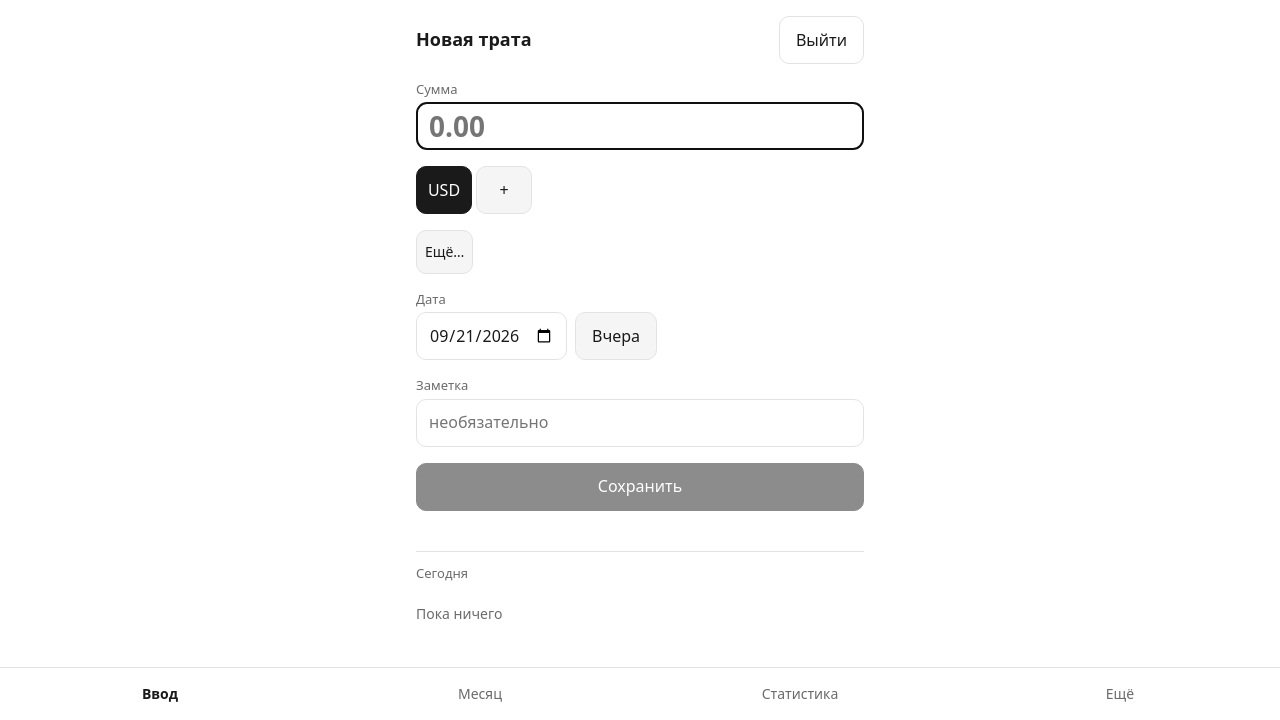
Scenario: EntryScreen › сохраняет запись и очищает сумму, оставляя категорию
Type "350" into the field labelled "Сумма" at (640, 126), box [416,102,864,150]
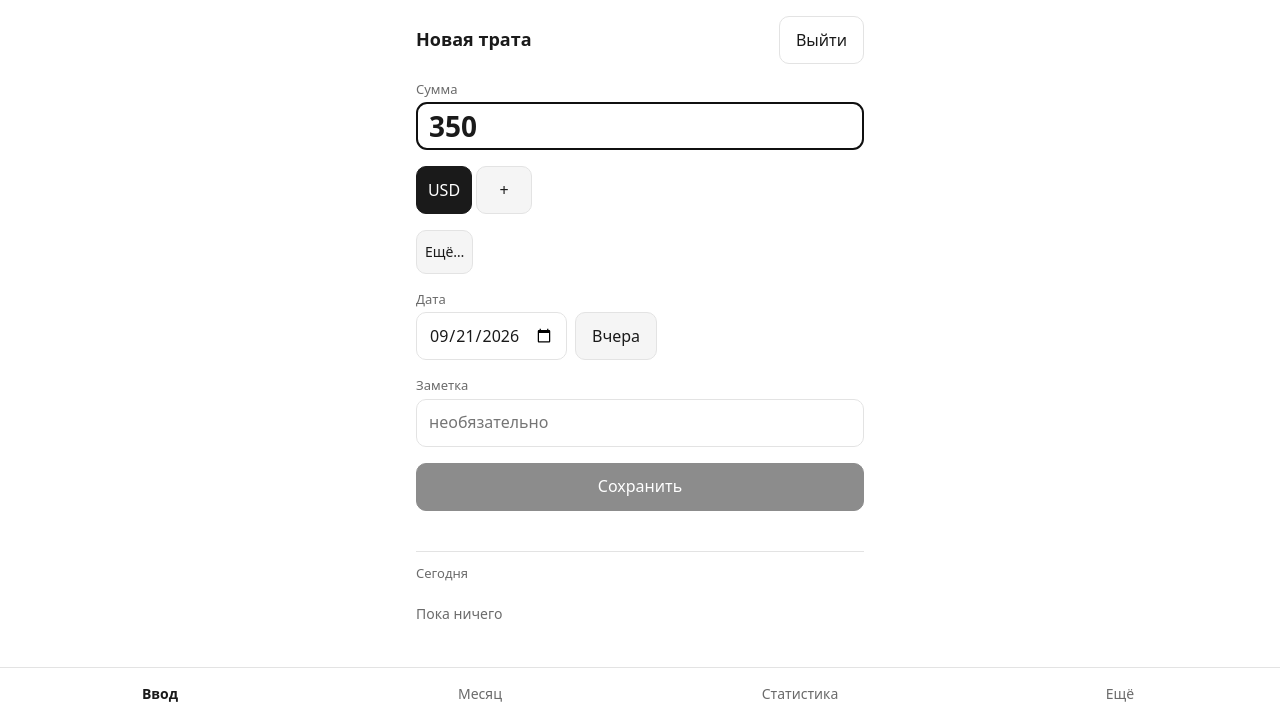
Click the button with aria-label "Все категории" at (445, 252), box [416,230,474,274]
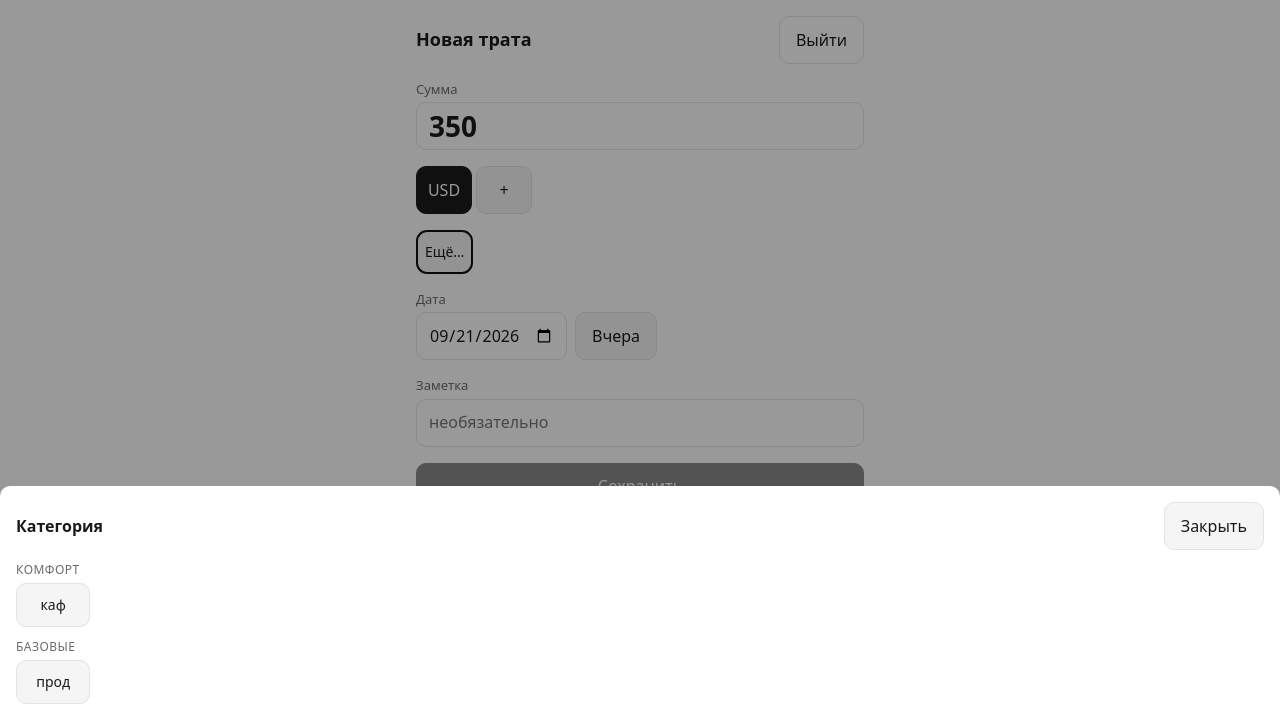
Click the radio button labelled "каф" at (53, 605), box [16,583,90,627]
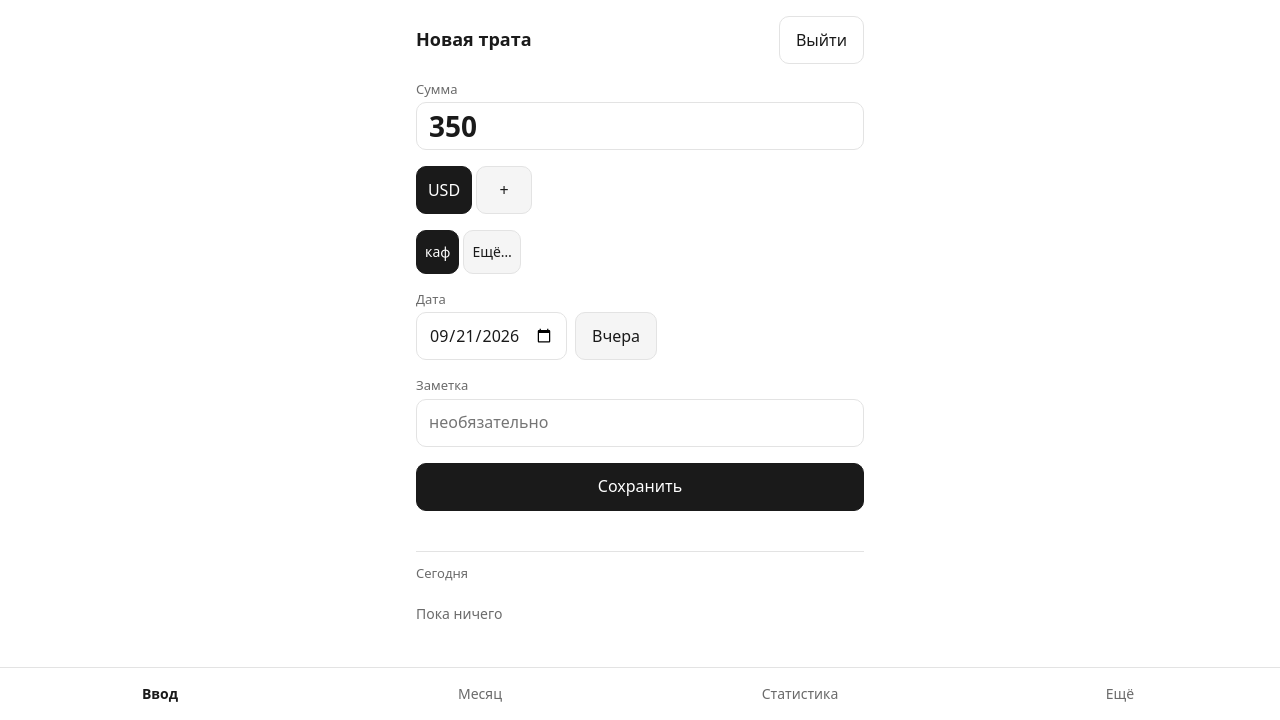
Click the button "Сохранить" at (640, 487), box [416,463,864,511]
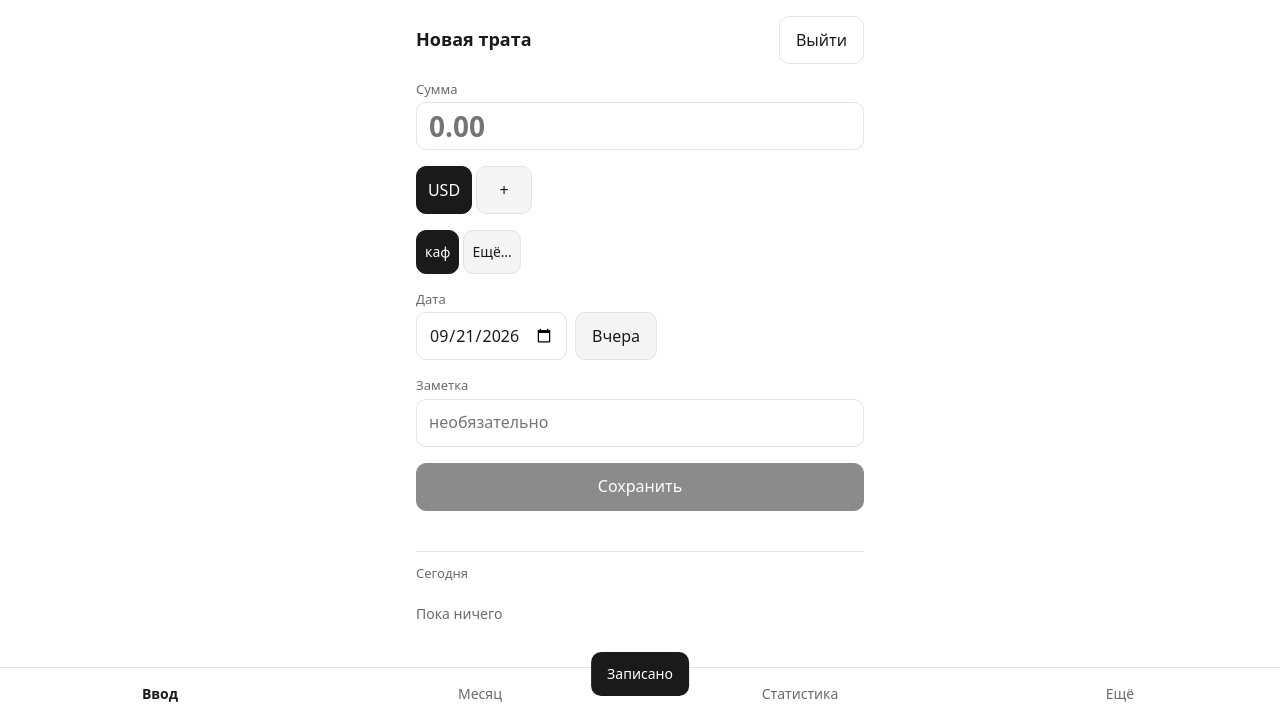
Check: the message reads "Записано", box [607,664,673,683]
Check: the field labelled "Сумма" is empty, box [416,102,864,150]
